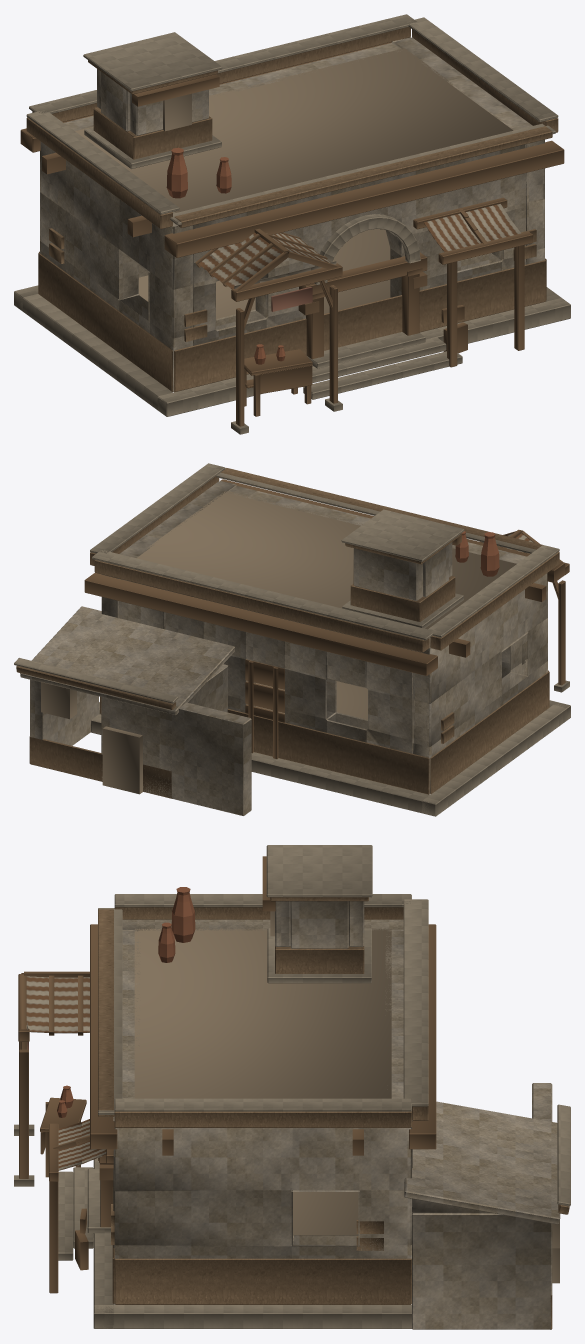
Rendered from market-hall-lod2.glb.
The picture shows the model from 3 angles, top to bottom: view 1: azimuth 30°, elevation 25°; view 2: azimuth 150°, elevation 25°; view 3: azimuth 270°, elevation 25°; orthographic projection. The views are drawn at different scales.
Parts seen in each view (by area): view 1: XO_Plaster, XO_Earth, XO_Stone, XO_Mudbrick, XO_Wood, XO_FabricAwning, XO_Terracotta, XO_FabricRust; view 2: XO_Plaster, XO_Mudbrick, XO_Stone, XO_Earth, XO_Wood, XO_Terracotta; view 3: XO_Plaster, XO_Earth, XO_Stone, XO_Mudbrick, XO_Wood, XO_FabricAwning, XO_Terracotta.
Part boxes in pixels (box(x1,y1,x2,y2)): XO_Plaster: box(39, 37, 544, 392); XO_Earth: box(75, 48, 513, 318); XO_Stone: box(14, 14, 570, 434); XO_Mudbrick: box(26, 27, 558, 391); XO_Wood: box(20, 42, 564, 426); XO_FabricAwning: box(198, 204, 520, 288); XO_Terracotta: box(166, 147, 285, 364); XO_FabricRust: box(271, 287, 312, 311); XO_Plaster: box(20, 481, 547, 815); XO_Mudbrick: box(16, 468, 559, 798); XO_Stone: box(14, 463, 570, 816); XO_Earth: box(41, 491, 516, 794); XO_Wood: box(84, 479, 569, 759); XO_Terracotta: box(455, 531, 499, 576); XO_Plaster: box(113, 901, 560, 1329); XO_Earth: box(134, 911, 559, 1283); XO_Stone: box(14, 845, 570, 1328); XO_Mudbrick: box(98, 897, 569, 1329); XO_Wood: box(18, 856, 436, 1293); XO_FabricAwning: box(26, 976, 106, 1170); XO_Terracotta: box(57, 887, 195, 1117).
Size of the model in its own units: 8.99 by 5.36 by 9.37.
Materials: 9 (4 with a texture image).
